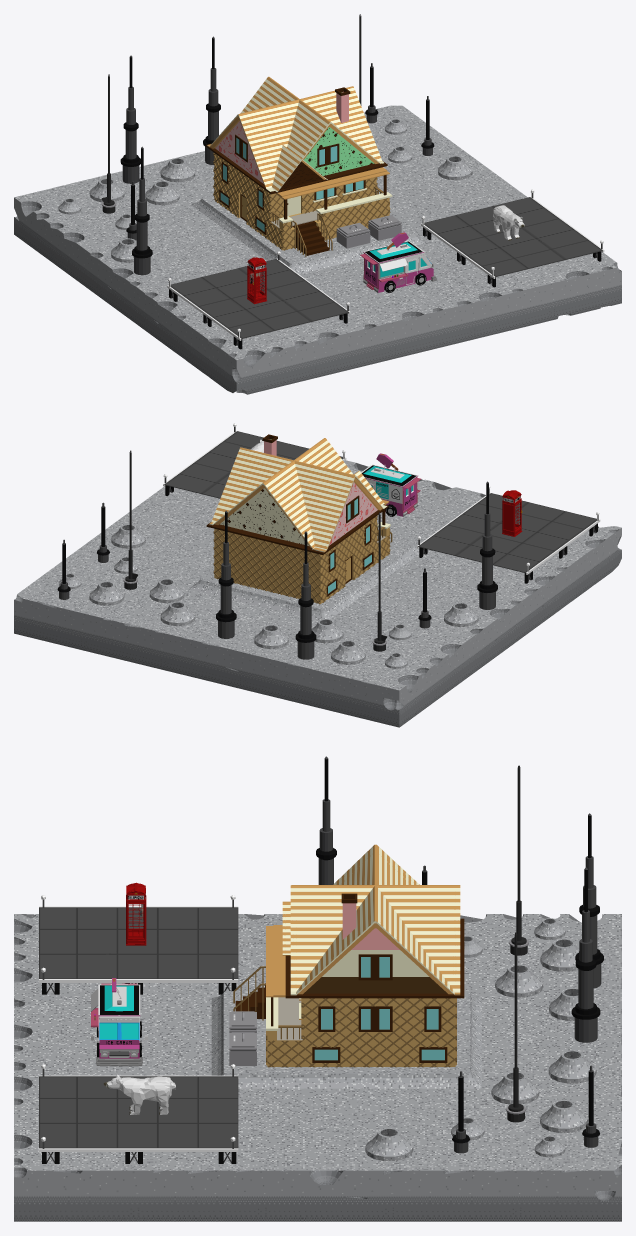
The picture shows the model from 3 angles, top to bottom: view 1: azimuth 30°, elevation 25°; view 2: azimuth 150°, elevation 25°; view 3: azimuth 270°, elevation 25°; orthographic projection. The views are drawn at different scales.
Parts seen in each view (by area): view 1: Cube.027, Cube.1102, Cube.025, Cube.026, Cube.028, VEHICLES_ICE_CREAM_TRUCK, Cylinder.020, Cylinder.021, Cylinder.017, OBJRANDOM_PHONEBOOTH, ANIMAL_OSO_POLAR, Cube.029 (+5 smaller); view 2: Cube.027, Cube.1102, Cube.025, Cube.028, Cube.026, VEHICLES_ICE_CREAM_TRUCK, Cylinder.020, Cylinder.021, Cylinder.017, OBJRANDOM_PHONEBOOTH, Cylinder.031, Cylinder.028 (+8 smaller); view 3: Cube.027, Cube.1102, Cube.025, Cube.026, Cube.028, VEHICLES_ICE_CREAM_TRUCK, Cylinder.017, ANIMAL_OSO_POLAR, Cylinder.020, Cylinder.021, OBJRANDOM_PHONEBOOTH, Cylinder.033 (+11 smaller).
Boxes of the visible parts, x1,y1,x2,y2 form: Cube.027: [14, 105, 621, 394]; Cube.1102: [205, 76, 392, 256]; Cube.025: [167, 251, 350, 349]; Cube.026: [421, 189, 604, 287]; Cube.028: [191, 195, 424, 274]; VEHICLES_ICE_CREAM_TRUCK: [360, 232, 437, 292]; Cylinder.020: [120, 55, 140, 183]; Cylinder.021: [132, 146, 152, 275]; Cylinder.017: [203, 36, 220, 164]; OBJRANDOM_PHONEBOOTH: [247, 257, 266, 304]; ANIMAL_OSO_POLAR: [493, 205, 524, 240]; Cube.029: [336, 222, 370, 248]; Cube.027: [14, 460, 621, 727]; Cube.1102: [206, 434, 392, 604]; Cube.025: [417, 485, 600, 583]; Cube.028: [190, 538, 419, 620]; Cube.026: [163, 423, 346, 498]; VEHICLES_ICE_CREAM_TRUCK: [361, 453, 420, 516]; Cylinder.020: [295, 531, 316, 659]; Cylinder.021: [477, 481, 497, 609]; Cylinder.017: [216, 510, 236, 638]; OBJRANDOM_PHONEBOOTH: [502, 490, 522, 536]; Cylinder.031: [89, 581, 124, 605]; Cylinder.028: [331, 640, 365, 664]; Cube.027: [14, 914, 621, 1221]; Cube.1102: [233, 844, 464, 1067]; Cube.025: [39, 895, 238, 994]; Cube.026: [39, 1064, 238, 1163]; Cube.028: [211, 991, 481, 1088]; VEHICLES_ICE_CREAM_TRUCK: [91, 978, 147, 1066]; Cylinder.017: [571, 867, 600, 1042]; ANIMAL_OSO_POLAR: [103, 1074, 175, 1114]; Cylinder.020: [575, 813, 603, 988]; Cylinder.021: [316, 756, 336, 884]; OBJRANDOM_PHONEBOOTH: [126, 882, 146, 945]; Cylinder.033: [365, 1128, 413, 1160].
Bounding box in the file's own units: 4000 × 1807 × 4000.
Materials: 46 (5 with a texture image).
